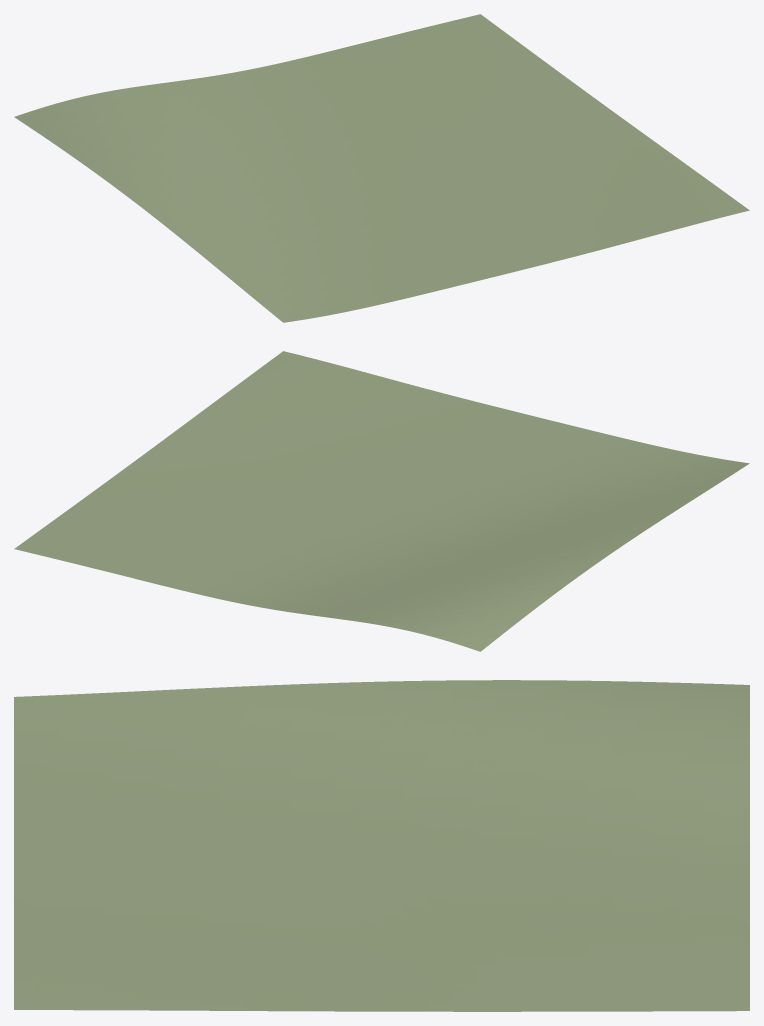
The model's file is desert-11-7.glb.
The picture shows the model from 3 angles, top to bottom: view 1: azimuth 30°, elevation 25°; view 2: azimuth 150°, elevation 25°; view 3: azimuth 270°, elevation 25°; orthographic projection. The views are drawn at different scales.
Parts seen in each view (by area): view 1: desert-11-7; view 2: desert-11-7; view 3: desert-11-7.
Boxes of the visible parts, x1,y1,x2,y2 form: desert-11-7: (14, 14, 749, 322); desert-11-7: (14, 351, 749, 651); desert-11-7: (14, 680, 749, 1011).
Bounding box in the file's own units: 512 × 18.92 × 512.
